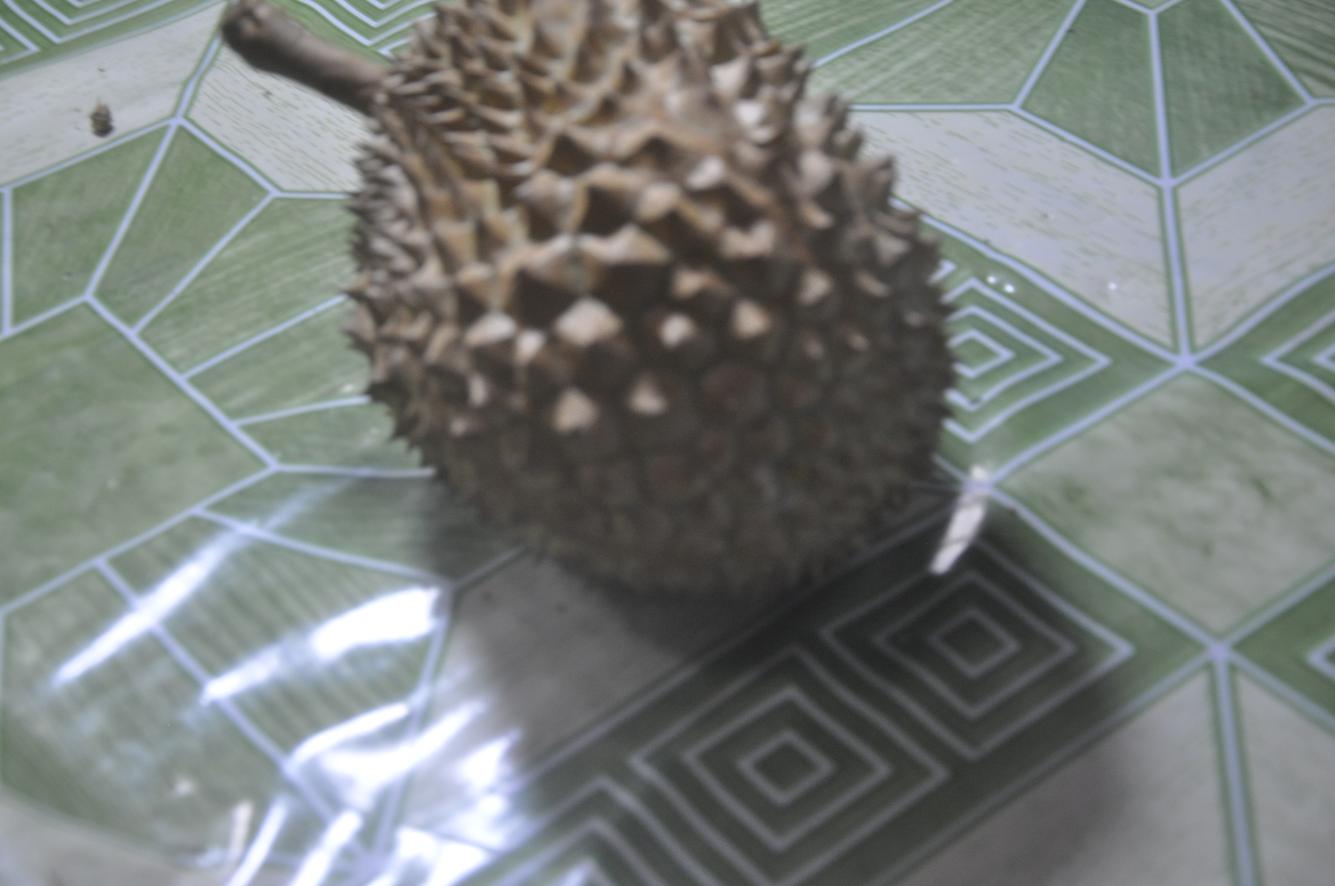mature: (222, 0, 954, 590)
